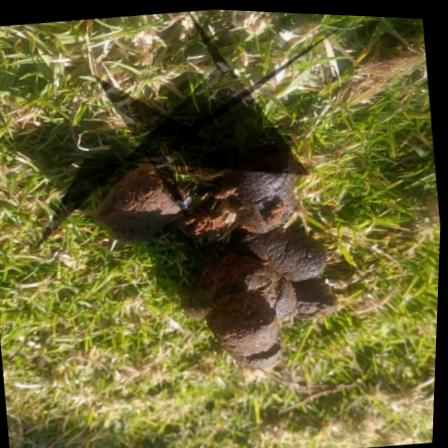dog-poop: (81, 113, 354, 389)
